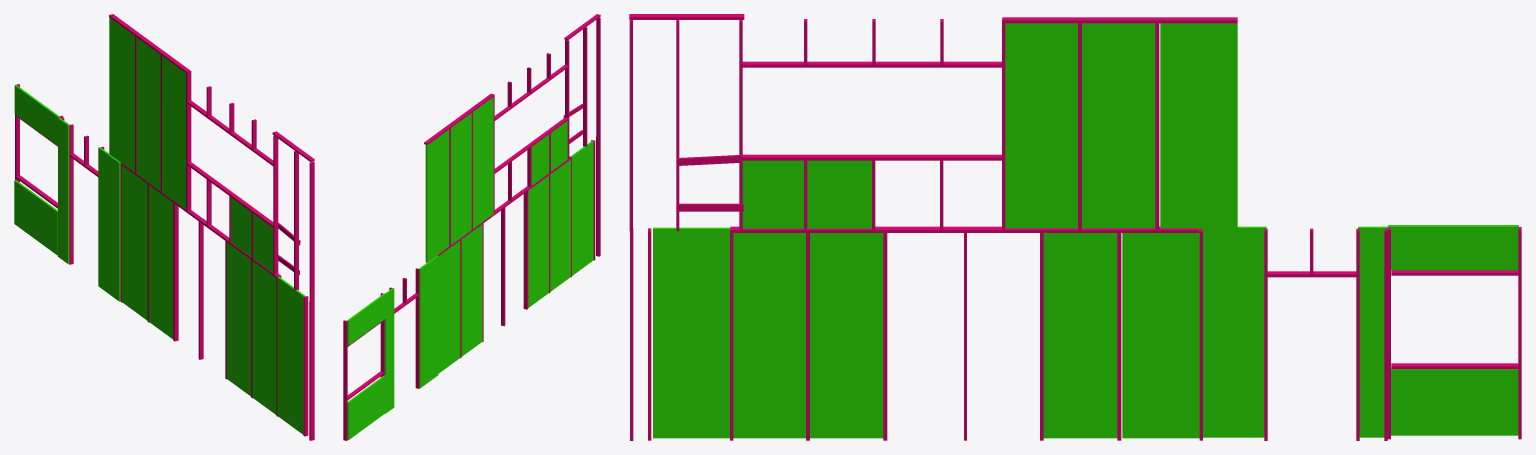
Rendered from BH04_Wall_03_Break_B.fbx.
3 views of the same model, side by side, from view 1: azimuth 30°, elevation 25°; view 2: azimuth 150°, elevation 25°; view 3: azimuth 270°, elevation 25° (orthographic). The views are drawn at different scales.
Parts seen in each view (by area): view 1: BH04_Wall_03_Break_B; view 2: BH04_Wall_03_Break_B; view 3: BH04_Wall_03_Break_B.
Boxes of the visible parts, x1,y1,x2,y2 form: BH04_Wall_03_Break_B: (14, 14, 314, 440); BH04_Wall_03_Break_B: (343, 14, 600, 440); BH04_Wall_03_Break_B: (629, 14, 1521, 440).
Bounding box in the file's own units: 15.99 × 607 × 1158.
